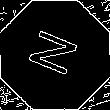N_E: (24, 27, 86, 83)
